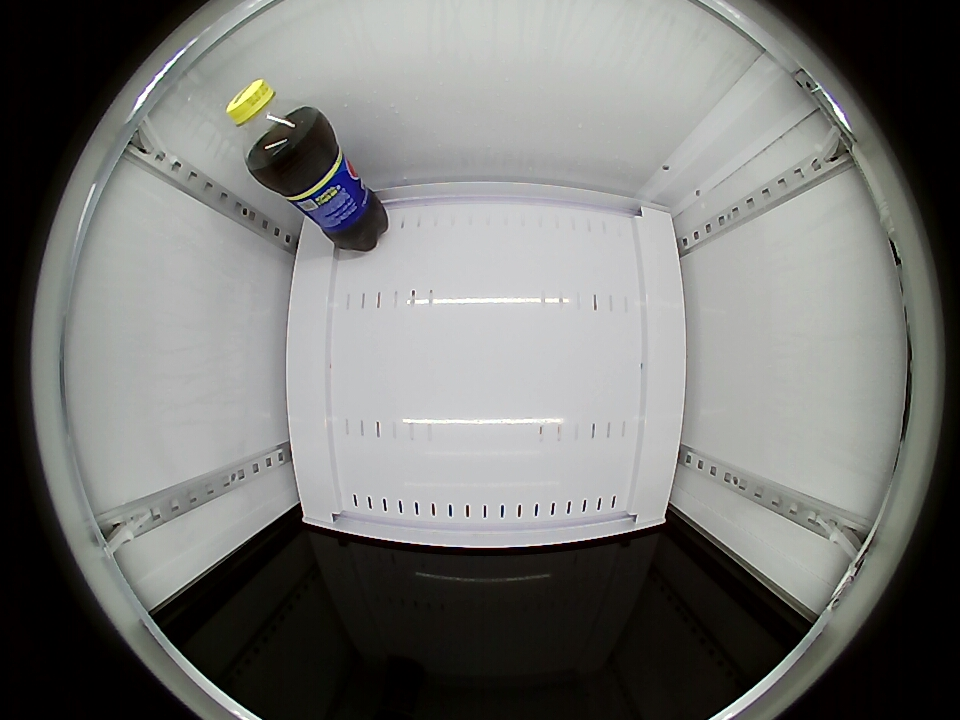baishikele: (226, 78, 319, 174)
